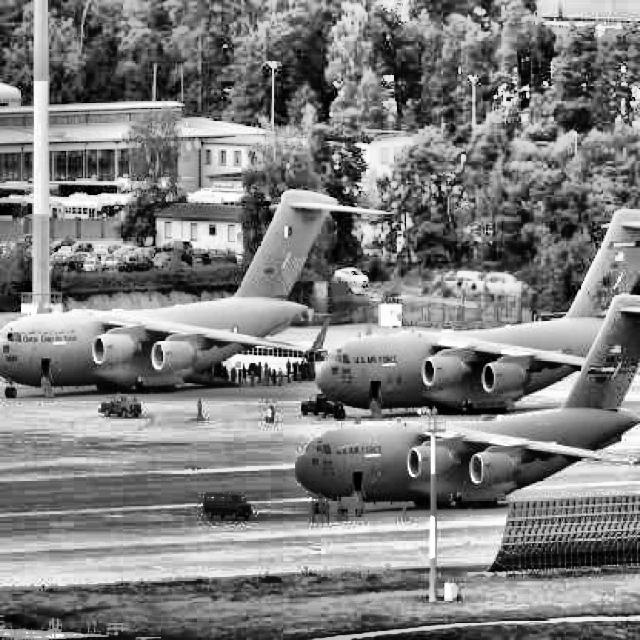C17: (0, 188, 394, 400), (295, 293, 639, 515), (316, 208, 638, 422)
